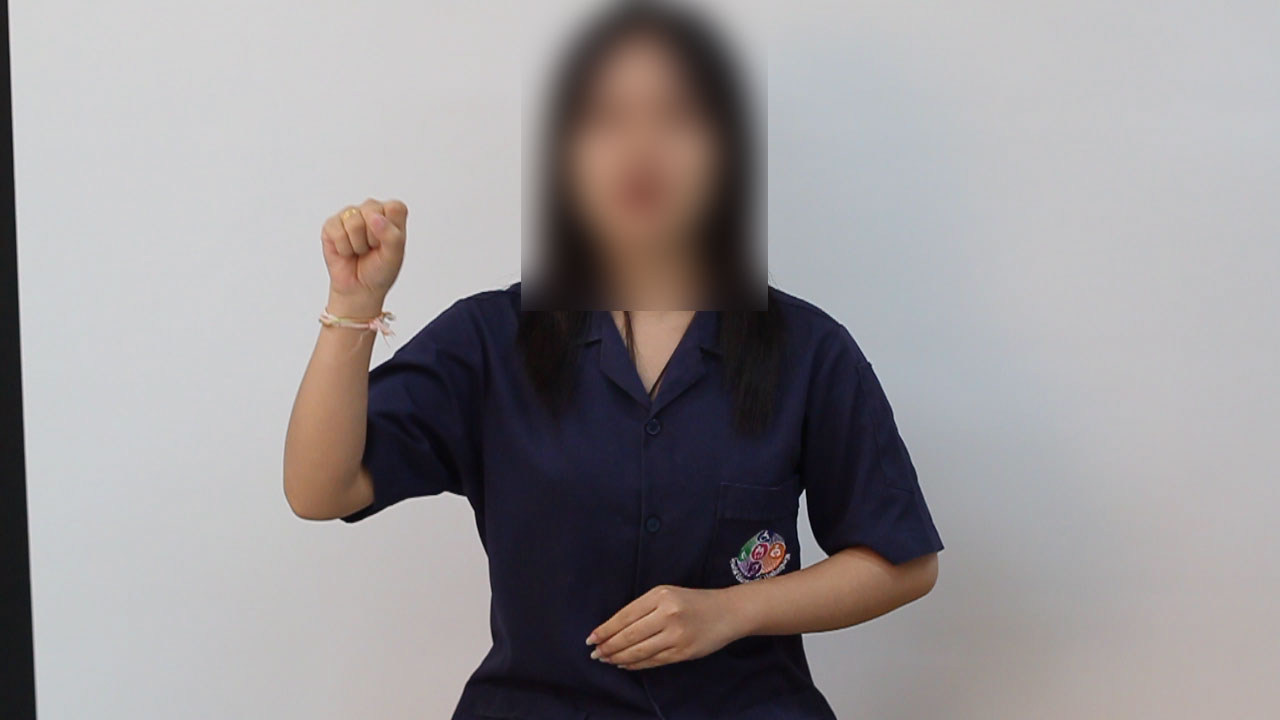sor: (301, 186, 422, 330)
